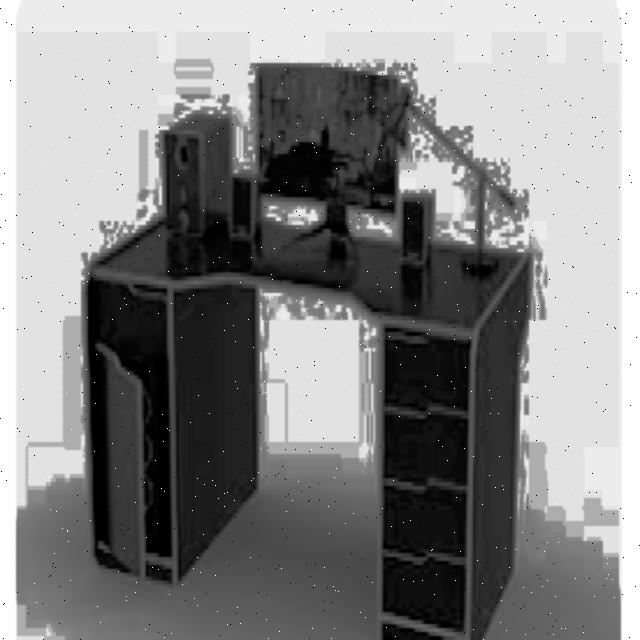paper: (145, 118, 242, 264), (393, 183, 438, 281), (223, 168, 263, 251)
table: (14, 217, 543, 640)
